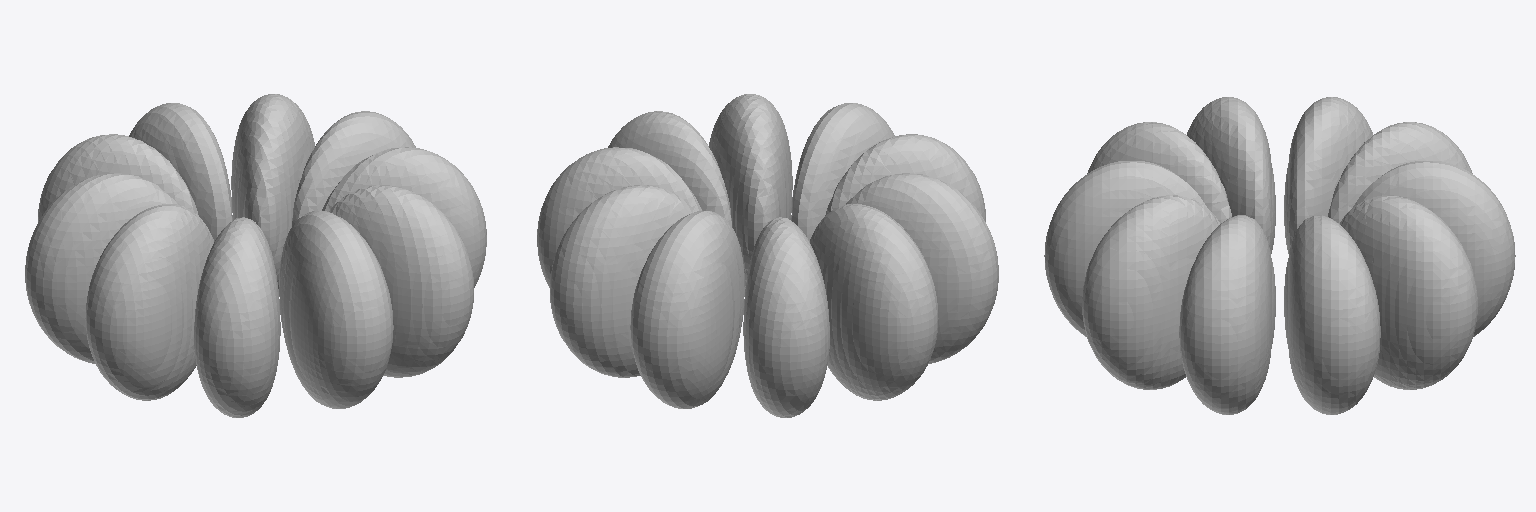
File: orb_n=6_ l=5 _m=-5.obj
The picture shows the model from 3 angles: view 1: azimuth 30°, elevation 25°; view 2: azimuth 150°, elevation 25°; view 3: azimuth 270°, elevation 25°; orthographic projection.
Visible parts, largest first — view 1: orb_n=6__l=5__m=-5; view 2: orb_n=6__l=5__m=-5; view 3: orb_n=6__l=5__m=-5.
Part boxes in pixels (bbox=[...]): orb_n=6__l=5__m=-5: bbox=[25, 94, 486, 417]; orb_n=6__l=5__m=-5: bbox=[537, 94, 998, 417]; orb_n=6__l=5__m=-5: bbox=[1044, 97, 1515, 414].
Bounding box in the file's own units: 128 × 58.4 × 133.